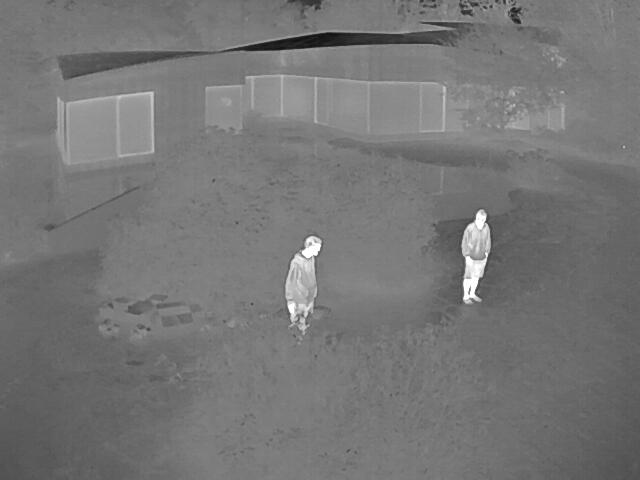person: (283, 235, 322, 336), (461, 207, 491, 305)
